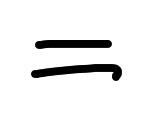eqv: (31, 40, 123, 82)
